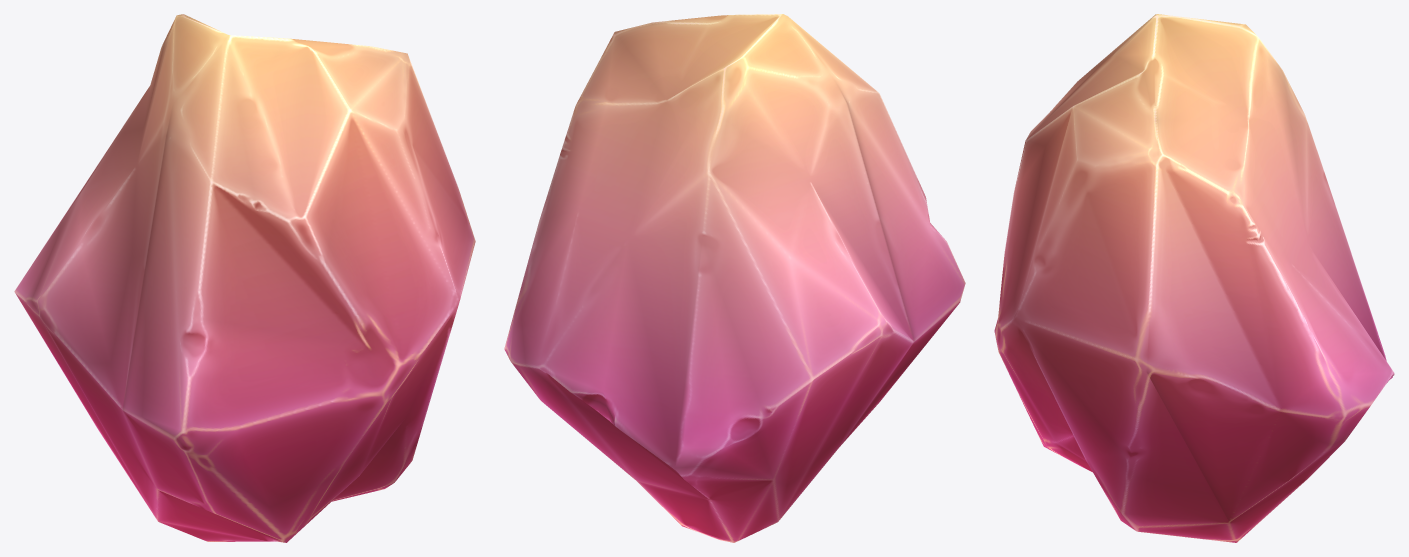
Rendered from Crystal1.fbx.
The picture shows the model from 3 angles, left to right: view 1: azimuth 30°, elevation 25°; view 2: azimuth 150°, elevation 25°; view 3: azimuth 270°, elevation 25°; orthographic projection. The views are drawn at different scales.
Parts seen in each view (by area): view 1: Crystal1; view 2: Crystal1; view 3: Crystal1.
Part boxes in pixels (bbox=[...]): Crystal1: bbox=[14, 14, 475, 542]; Crystal1: bbox=[504, 14, 965, 542]; Crystal1: bbox=[994, 14, 1394, 542].
Bounding box in the file's own units: 38.24 × 50.72 × 36.52.
